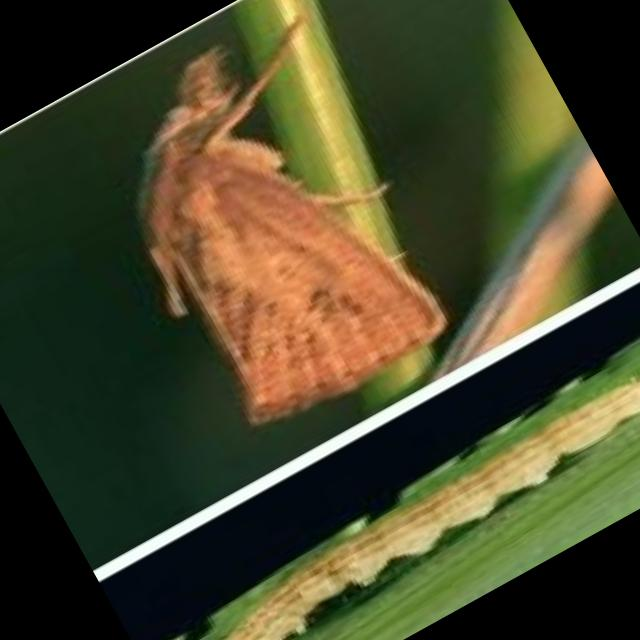stem-borer: (64, 2, 470, 451)
